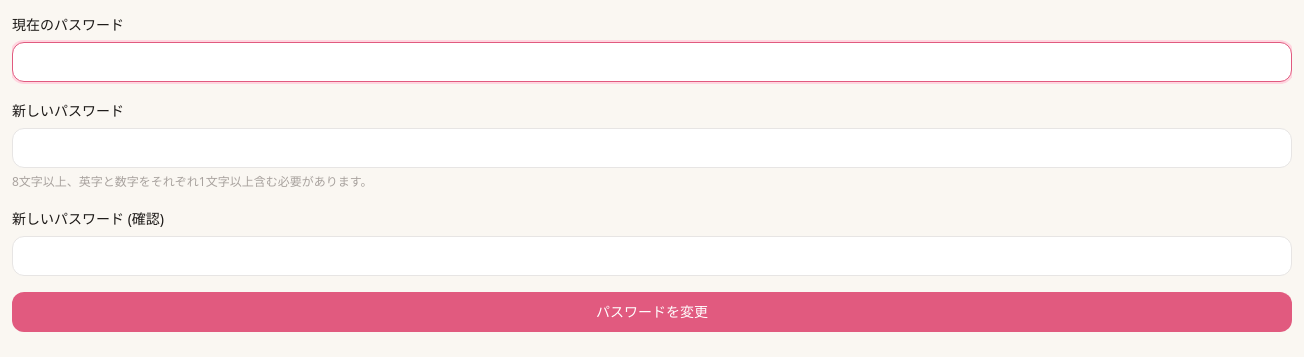
Test: PasswordChangeForm › 2. 新パスワードが短すぎると BE を呼ばずクライアントエラーを表示する
This screenshot has width=1304, height=357.
Type "oldpass99" into the password field labelled "現在のパスワード". click: point(652, 62)
box: [12,42,1292,82]
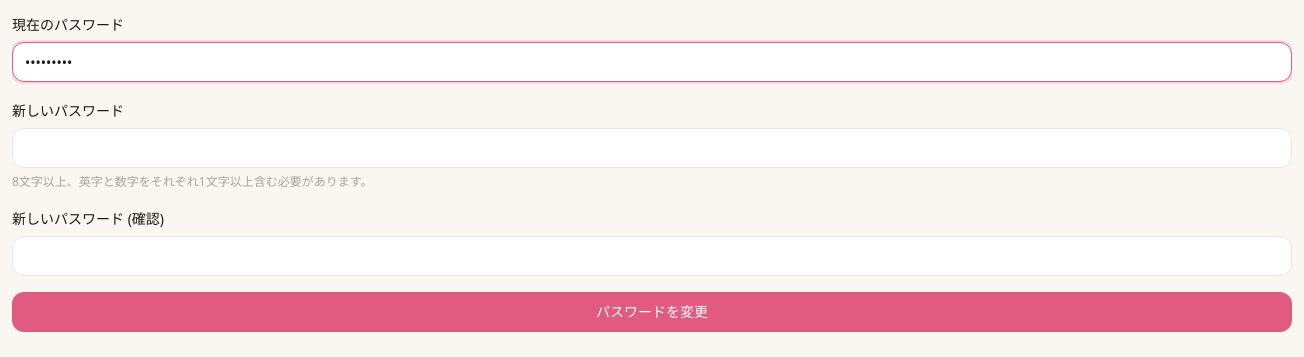
Type "ab1" into the password field labelled "新しいパスワード". click: point(652, 148)
box: [12,128,1292,168]
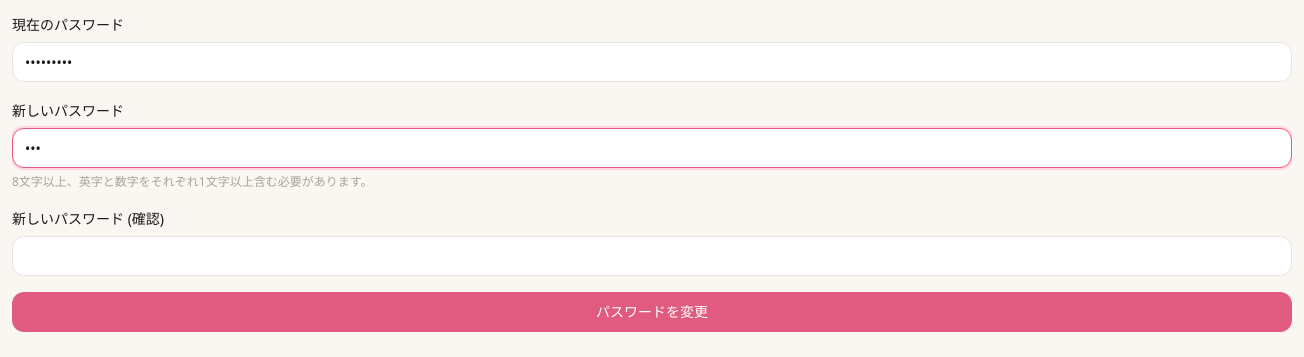
Type "ab1" into the password field labelled "新しいパスワード (確認)". click: point(652, 256)
box: [12,236,1292,276]
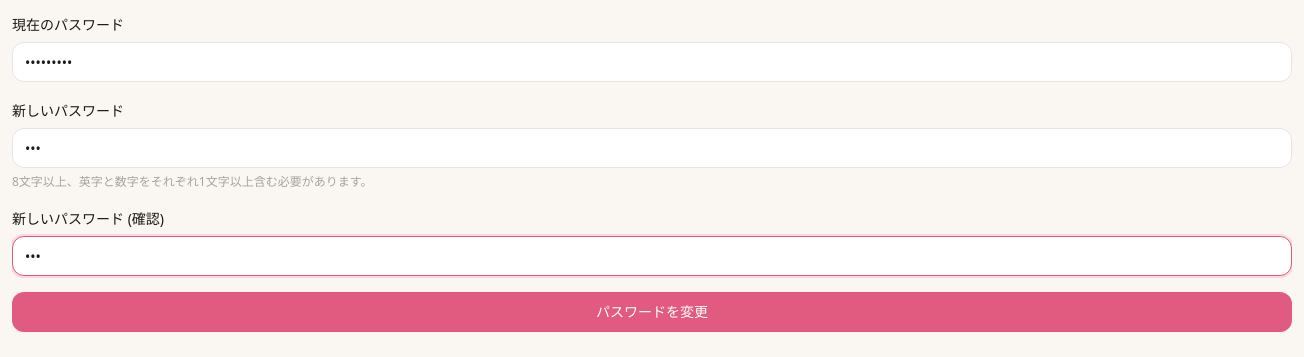
Click the button "パスワードを変更". click: point(652, 312)
box: [12,292,1292,332]
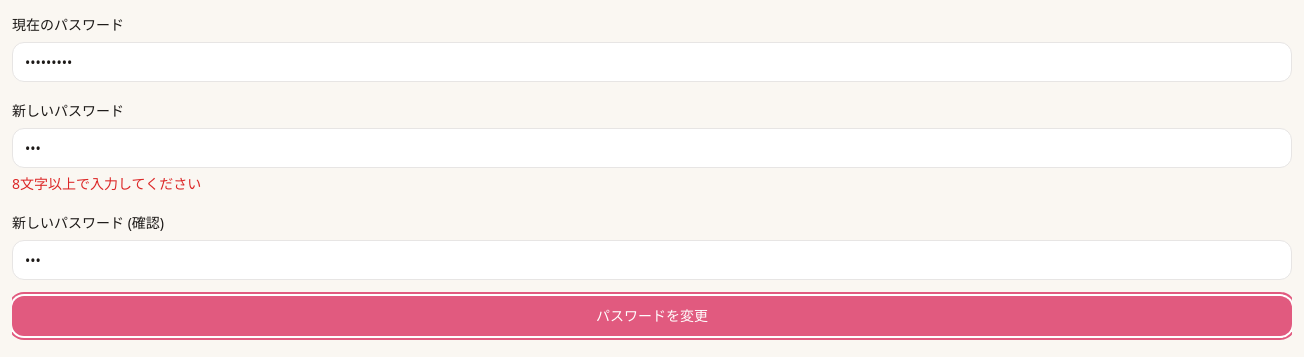
Now the text "8文字以上で入力してください" is shown, box [12,174,201,193]
